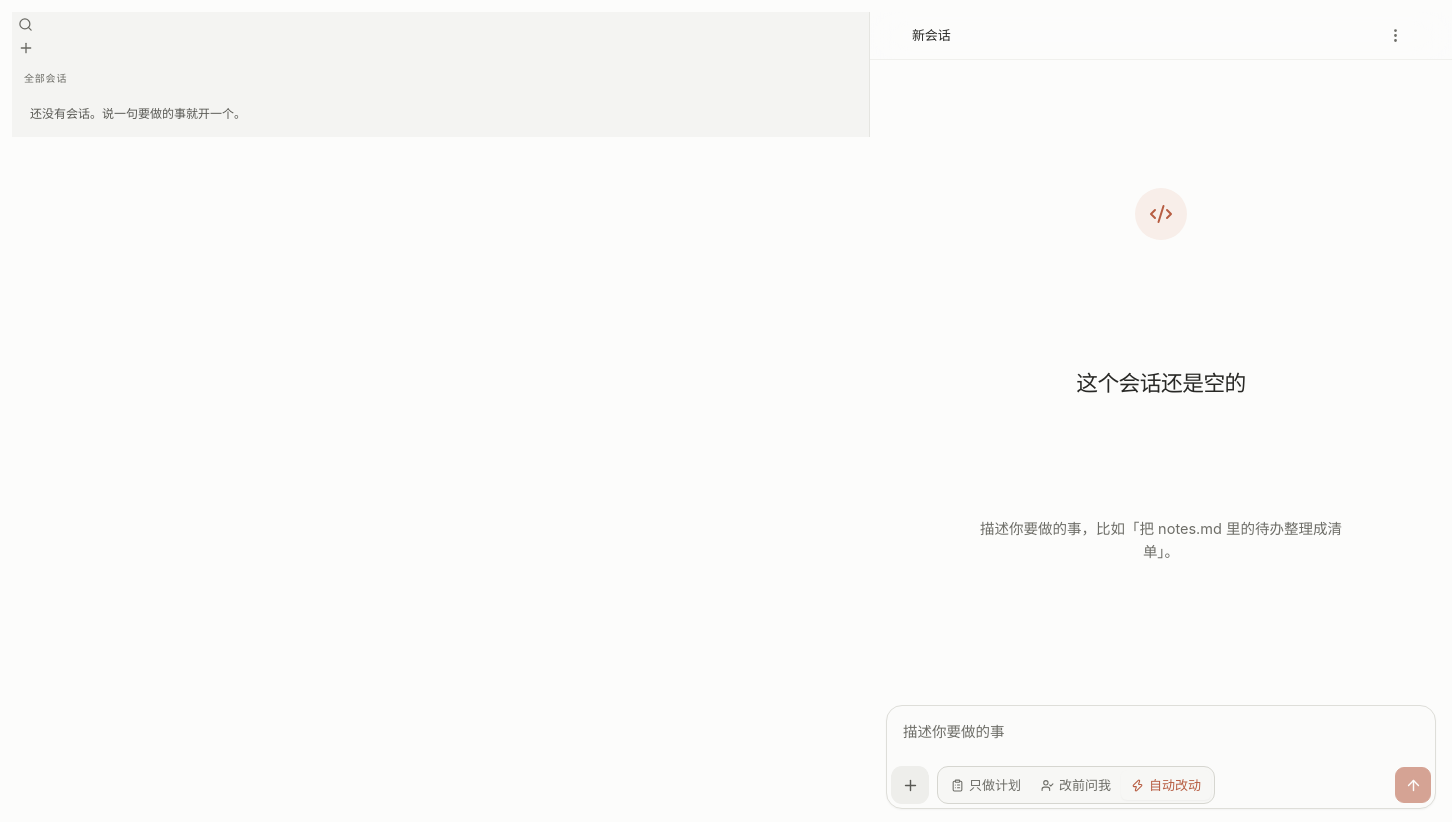
CodePage › says why a turn stopped when it produced no report
Step 1. Type "run the tests" into the text box labelled "要做的事" → (1161, 736), box [891,710,1431,762]
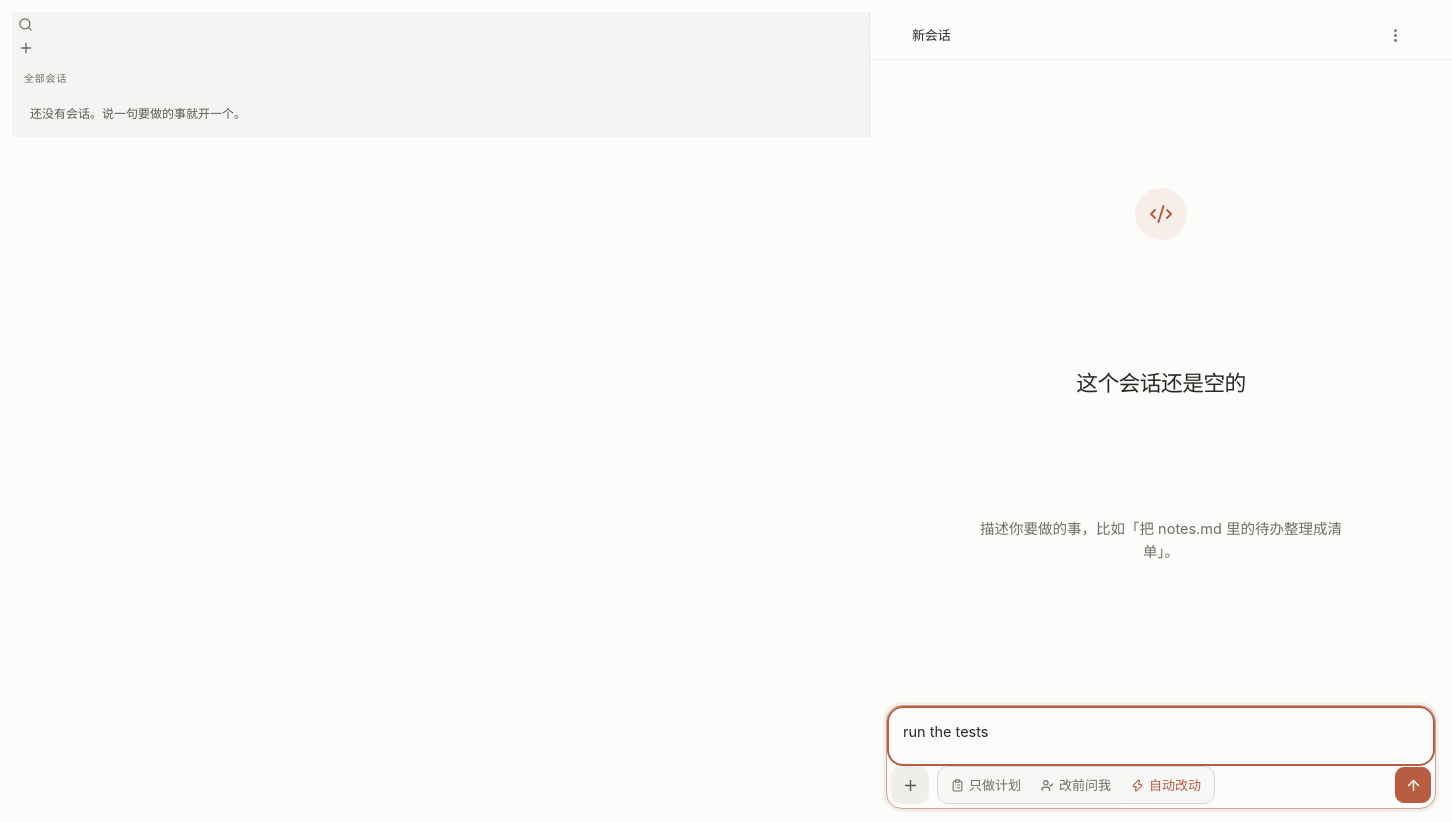
Step 2. Click the button named "发送" → (1413, 785), box [1395,767,1431,803]
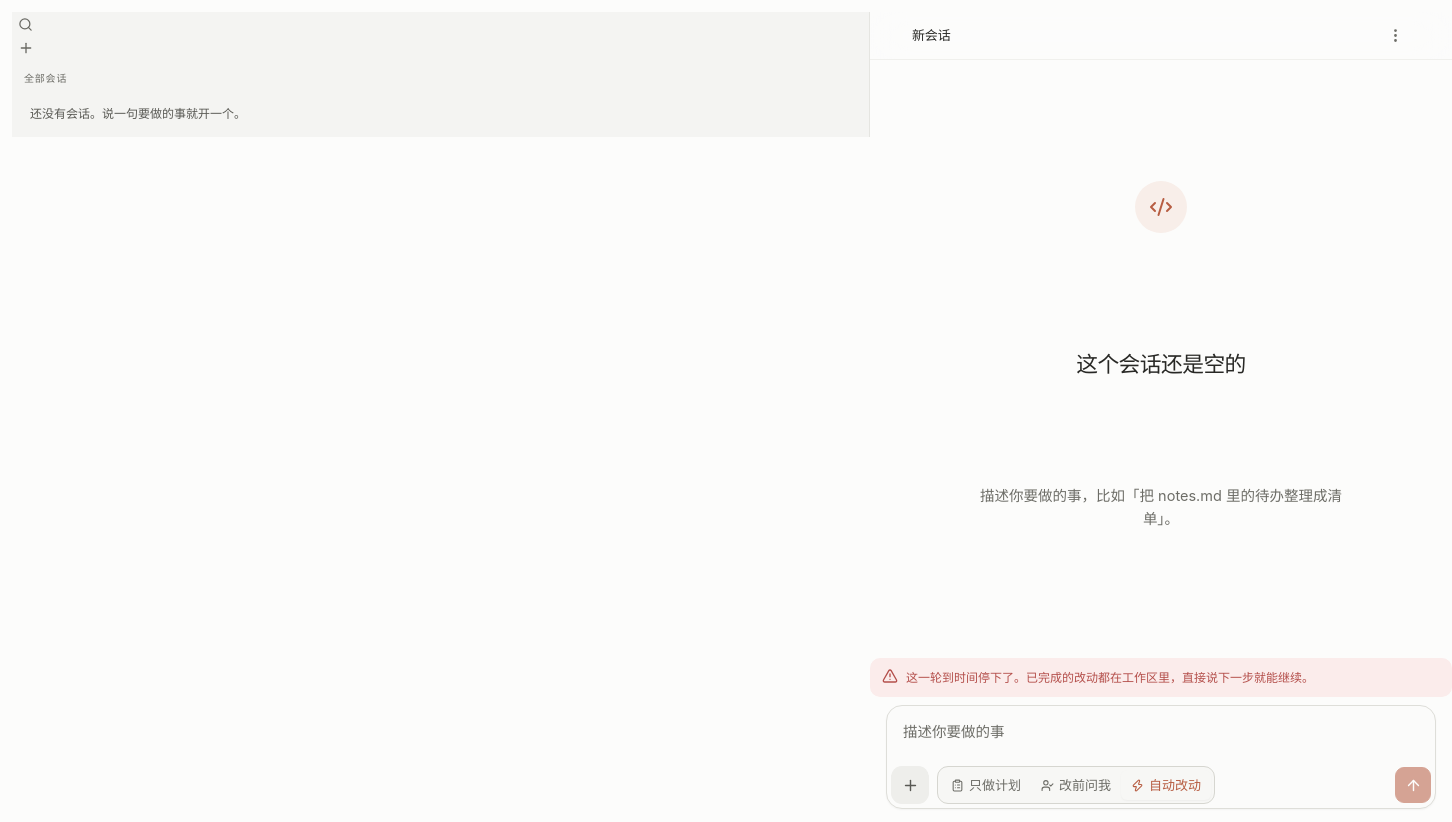
Check: the text "这一轮到时间停下了。已完成的改动都在工作区里，直接说下一步就能继续。" is shown, box [906,668,1314,687]
